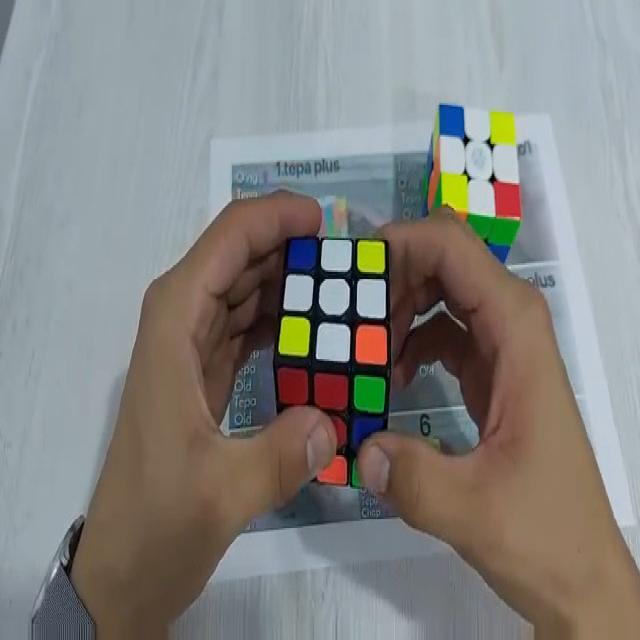Rub: (274, 229, 391, 492), (422, 104, 520, 264)
